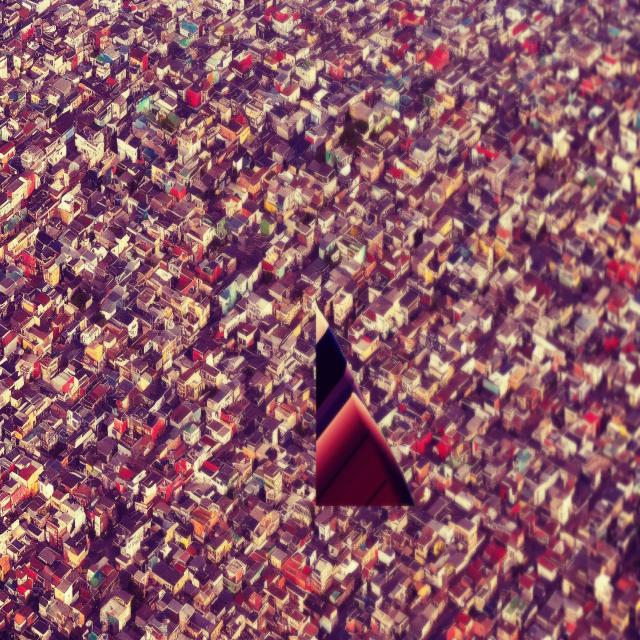airplane: (316, 304, 413, 507)
